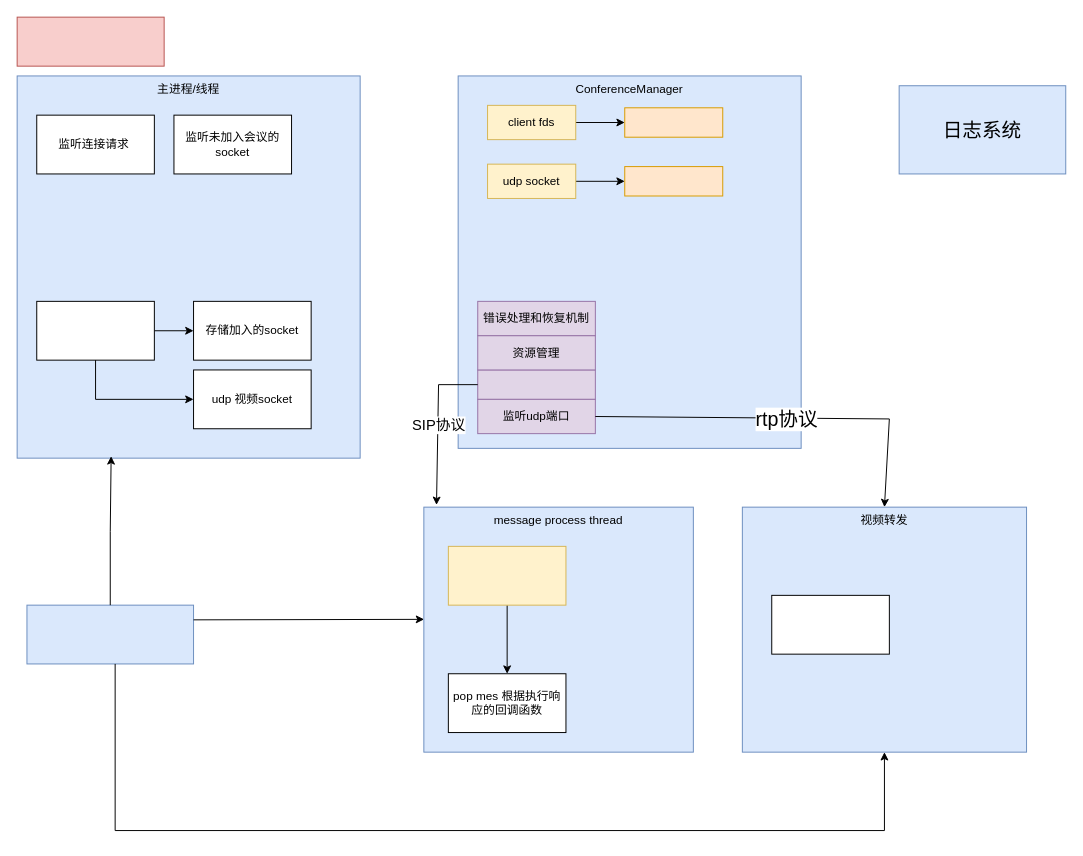
Image size: 1083x856. Some labels were removed from this diagram. The shapes that lost their labels are listed below. From the top down, each one's centre as x and y in pixels, then its label:
pixel 90 41: 所有的socket设置非阻塞，使用io多路复用发送
pixel 673 122: create server and client map
pixel 673 181: 可以建立多个udp端口负载均衡
pixel 95 330: 创建会议数据结构 ConferenceManager
pixel 536 384: io多路复用监听消息 cotrol，txt，pic
pixel 506 575: mesg queue
pixel 110 634: thread pool 处理所有的回调函数
pixel 830 624: 根据map 转发给其他的client
